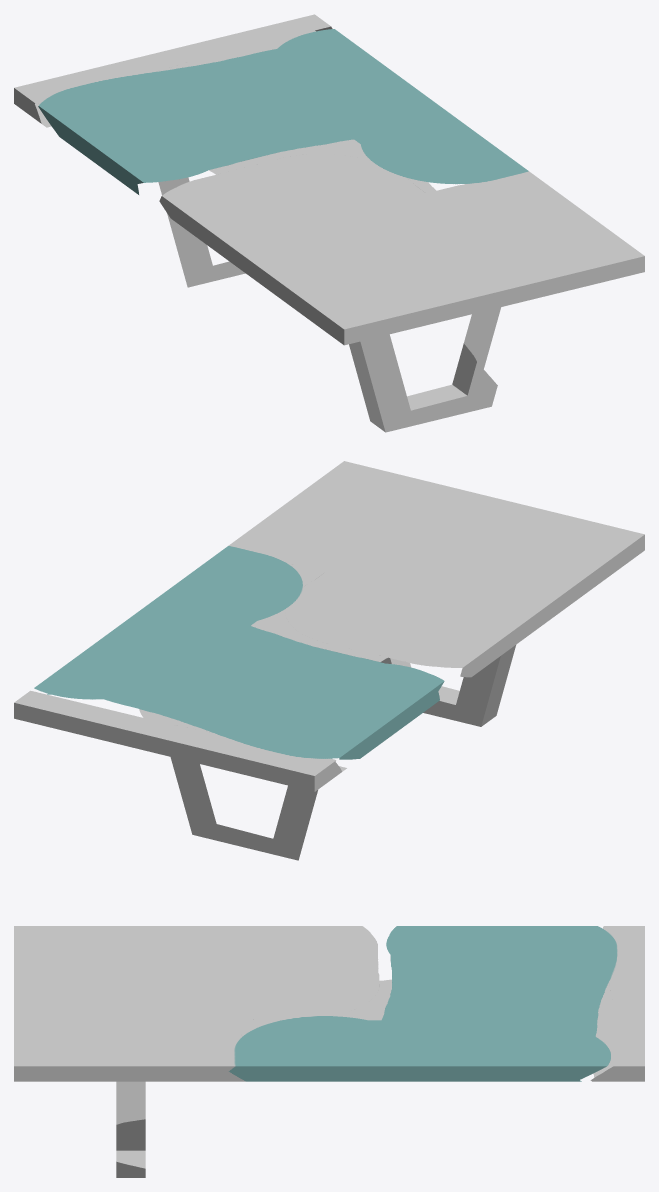
Rendered from Model_Stol_Pingpong.fbx.
The picture shows the model from 3 angles, top to bottom: view 1: azimuth 30°, elevation 25°; view 2: azimuth 150°, elevation 25°; view 3: azimuth 270°, elevation 25°; orthographic projection. The views are drawn at different scales.
Parts seen in each view (by area): view 1: Mesh_pingpong; view 2: Mesh_pingpong; view 3: Mesh_pingpong.
Boxes of the visible parts, box(x1,y1,x2,y2) form: Mesh_pingpong: box(14, 14, 644, 432); Mesh_pingpong: box(14, 461, 644, 860); Mesh_pingpong: box(14, 926, 644, 1177).
Size of the model in its own units: 326 by 105 by 173.
